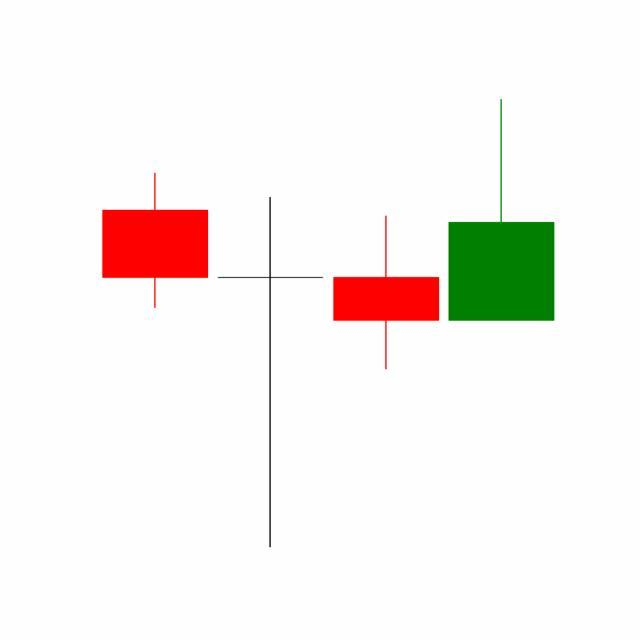Spinning Top: (329, 215, 445, 372)
